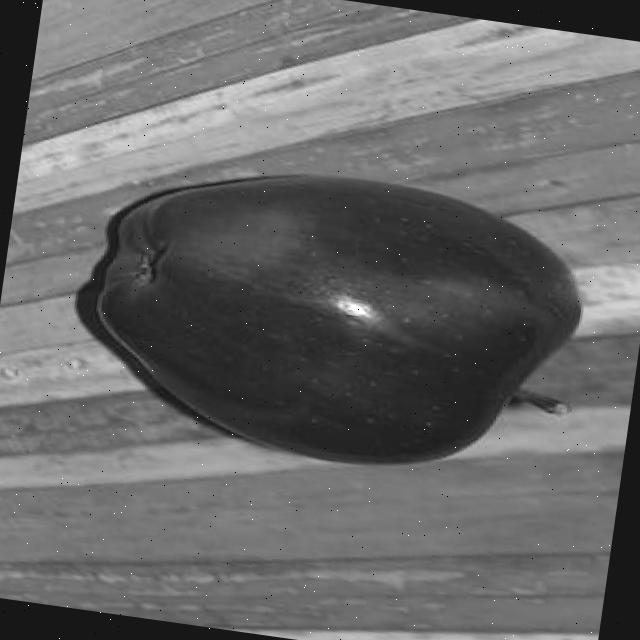apple: (76, 144, 597, 493)
